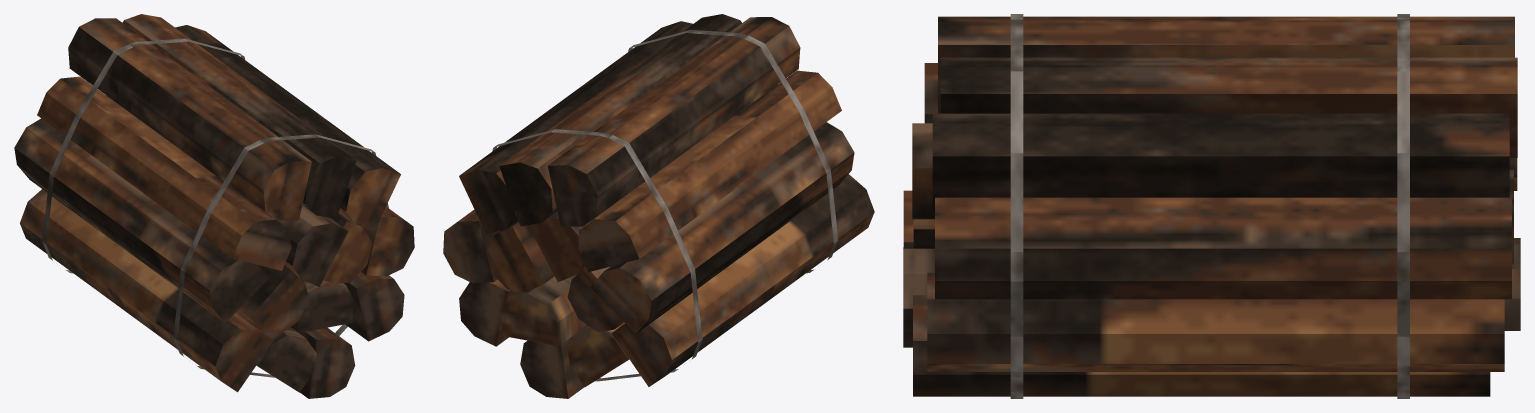
File: wooden_logs_2.fbx
3 renders of one model, left to right at view 1: azimuth 30°, elevation 25°; view 2: azimuth 150°, elevation 25°; view 3: azimuth 270°, elevation 25°, orthographic. The views are drawn at different scales.
Visible parts, largest first — view 1: Wood_Pile_2; view 2: Wood_Pile_2; view 3: Wood_Pile_2.
Boxes of the visible parts, x1,y1,x2,y2 form: Wood_Pile_2: [14, 14, 414, 398]; Wood_Pile_2: [443, 14, 874, 398]; Wood_Pile_2: [903, 14, 1520, 398].
Bounding box in the file's own units: 197 × 213 × 335.
